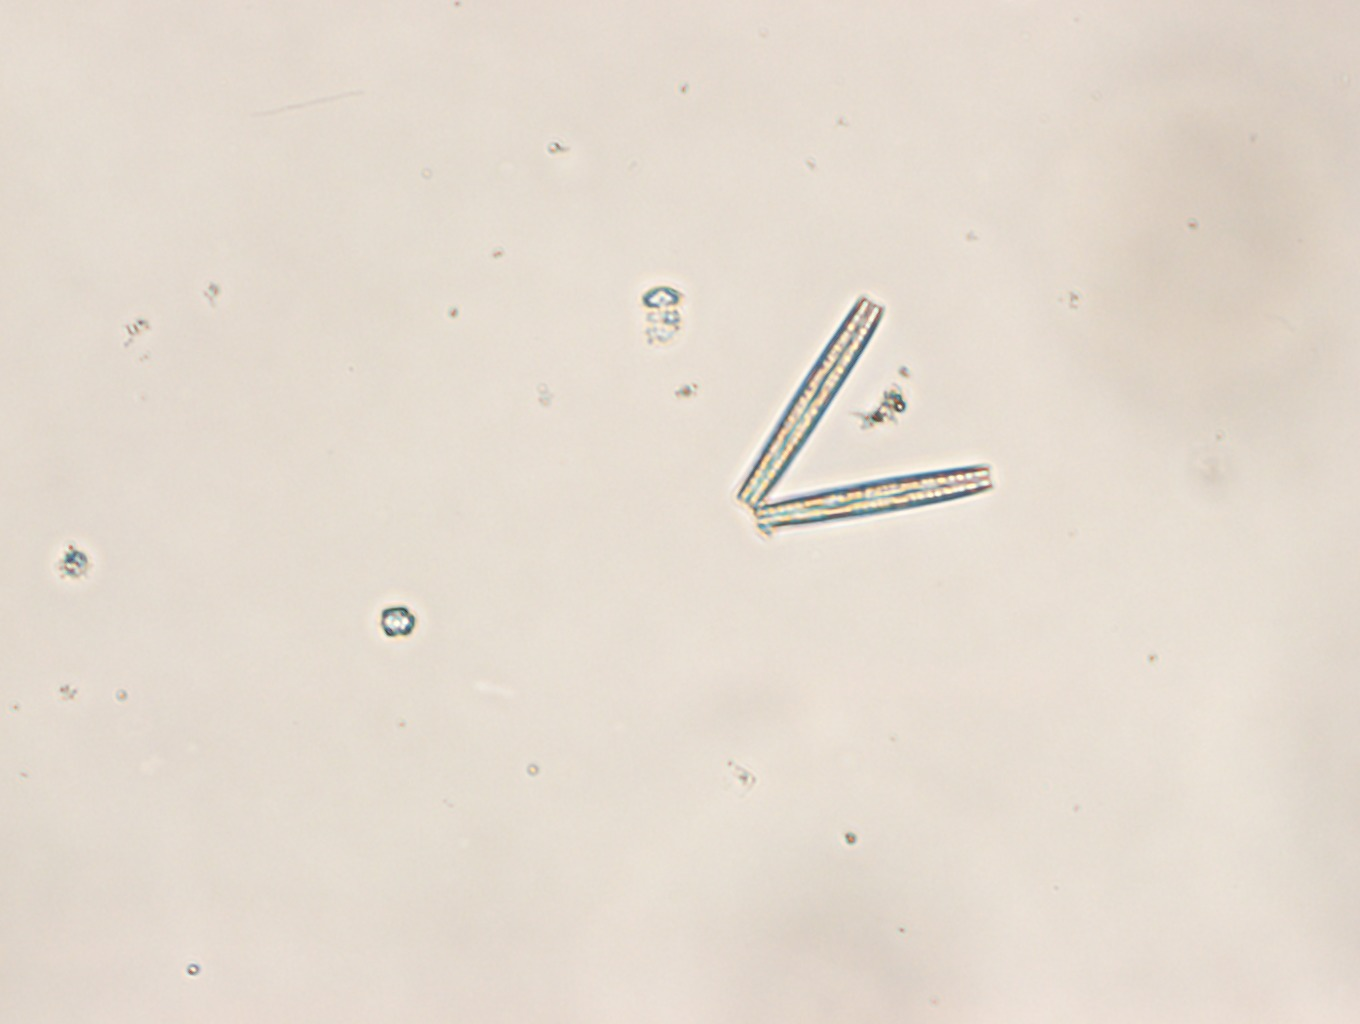thalassionema nitzschioides: (734, 291, 994, 530)
